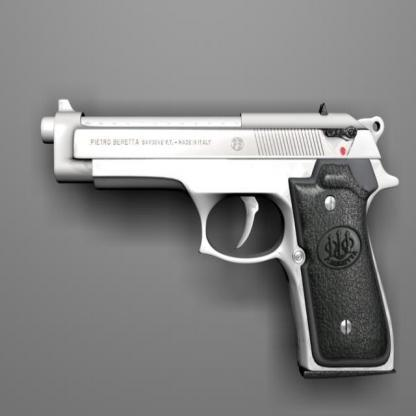Pistol: (37, 91, 400, 377)
